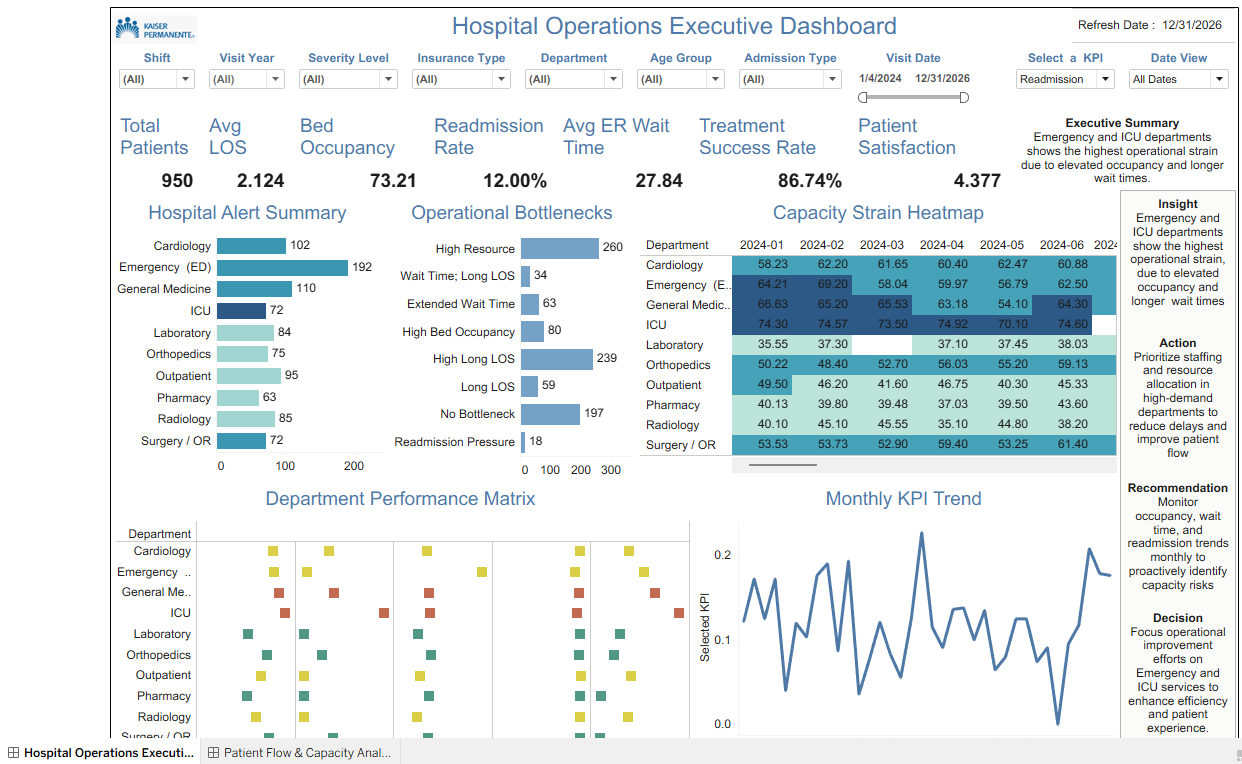

This screenshot's page, from the dashboard's own definition file:
{"tool":"tableau","page":{"name":"Hospital Operations Executive Dashboard","canvas":[1145,800],"ordinal":0},"visuals":[{"type":"title","box":[9,9,1127,35]},{"type":"worksheet","title":"Date Refresh ","mark":"Polygon","rows":["visit_date"],"box":[970,9,164,35]},{"type":"image","param":"Image/Kaiser Logo.png","box":[10,11,86,39]},{"type":"filter","title":"Capacity Strain Heatmap","param":"[federated.16tmy5q0wsebc01do4ov60bm0m2q].[none:shift:nk]","box":[10,48,89.8,60]},{"type":"filter","title":"Hospital Alert Summary ","param":"[federated.16tmy5q0wsebc01do4ov60bm0m2q].[yr:visit_date:ok]","box":[99.8,48,89.8,60]},{"type":"filter","title":"Capacity Strain Heatmap","param":"[federated.16tmy5q0wsebc01do4ov60bm0m2q].[none:severity_level:nk]","box":[189.5,48,113,60]},{"type":"filter","title":"Capacity Strain Heatmap","param":"[federated.16tmy5q0wsebc01do4ov60bm0m2q].[none:insurance_type:nk]","box":[302.5,48,113,60]},{"type":"filter","title":"Capacity Strain Heatmap","param":"[federated.16tmy5q0wsebc01do4ov60bm0m2q].[none:department:nk]","box":[415.5,48,112,60]},{"type":"filter","title":"Capacity Strain Heatmap","param":"[federated.16tmy5q0wsebc01do4ov60bm0m2q].[none:age_group:nk]","box":[527.5,48,102,60]},{"type":"filter","title":"Capacity Strain Heatmap","param":"[federated.16tmy5q0wsebc01do4ov60bm0m2q].[none:admission_type:nk]","box":[629.5,48,117,60]},{"type":"filter","title":"Capacity Strain Heatmap","param":"[federated.16tmy5q0wsebc01do4ov60bm0m2q].[none:visit_date:qk]","box":[748,48,127,60]},{"type":"parameter","param":"[Parameters].[Parameter 1196007160365057]","box":[907,48,113.5,60]},{"type":"parameter","param":"[Parameters].[Parameter 1196007862591496]","box":[1020.5,48,113.5,60]},{"type":"worksheet","title":"Total Patients","mark":"Automatic","box":[10,108,89.4,89]},{"type":"worksheet","title":"Avg LOS","mark":"Automatic","box":[99.4,108,91,89]},{"type":"worksheet","title":"Bed Occupancy","mark":"Automatic","box":[190.4,108,133.6,89]},{"type":"worksheet","title":"Readmission Rate ","mark":"Automatic","box":[324,108,129.4,89]},{"type":"worksheet","title":"Avg ER Wait Time","mark":"Automatic","box":[453.4,108,136,89]},{"type":"worksheet","title":"Treatment Success Rate","mark":"Automatic","box":[589.4,108,158.9,89]},{"type":"worksheet","title":"Patient Satisfaction","mark":"Automatic","box":[748.3,108,158.9,89]},{"type":"text","box":[907.2,108,226.8,89]},{"type":"text","box":[1019,192,114,125]},{"type":"worksheet","title":"Hospital Alert Summary ","mark":"Automatic","rows":["department"],"cols":["patient_id"],"box":[10,195,276,287]},{"type":"worksheet","title":"Operational Bottlenecks","mark":"Automatic","cols":["bottleneck_reason"],"box":[286,195,248,287]},{"type":"worksheet","title":"Capacity Strain Heatmap","mark":"Automatic","rows":["department"],"cols":["month"],"box":[534,195,485,287]},{"type":"text","box":[1019,328,114,144]},{"type":"text","box":[1019,472,114,133]},{"type":"worksheet","title":"Department Performance Matrix ","mark":"Square","rows":["department"],"cols":["bed_occupancy_rate","Calculation_0879897280897025","Calculation_0879897281646596","patient_satisfaction_score","Calculation_0879897281449987"],"box":[10,481,582,308]},{"type":"worksheet","title":"Monthly KPI Trend ","mark":"Line","rows":["Calculation_1196007161036802"],"cols":["month"],"box":[592,481,425,308]},{"type":"text","box":[1019,605,114,140]}]}

Visuals, with their boxes on the page's 1145x800 design canvas (x1, y1, x2, y2). These are canvas units, not pixel positions in the 1242x764 screenshot, which may show the page scaled, cropped or inside an application window:
title: <box>9,9,1136,44</box>
"Date Refresh " worksheet (Polygon marks): <box>970,9,1134,44</box>
image: <box>10,11,96,50</box>
"Capacity Strain Heatmap" filter: <box>10,48,100,108</box>
"Hospital Alert Summary " filter: <box>100,48,190,108</box>
"Capacity Strain Heatmap" filter: <box>190,48,302,108</box>
"Capacity Strain Heatmap" filter: <box>302,48,416,108</box>
"Capacity Strain Heatmap" filter: <box>416,48,528,108</box>
"Capacity Strain Heatmap" filter: <box>528,48,630,108</box>
"Capacity Strain Heatmap" filter: <box>630,48,746,108</box>
"Capacity Strain Heatmap" filter: <box>748,48,875,108</box>
parameter: <box>907,48,1020,108</box>
parameter: <box>1020,48,1134,108</box>
"Total Patients" worksheet: <box>10,108,99,197</box>
"Avg LOS" worksheet: <box>99,108,190,197</box>
"Bed Occupancy" worksheet: <box>190,108,324,197</box>
"Readmission Rate " worksheet: <box>324,108,453,197</box>
"Avg ER Wait Time" worksheet: <box>453,108,589,197</box>
"Treatment Success Rate" worksheet: <box>589,108,748,197</box>
"Patient Satisfaction" worksheet: <box>748,108,907,197</box>
text: <box>907,108,1134,197</box>
text: <box>1019,192,1133,317</box>
"Hospital Alert Summary " worksheet: <box>10,195,286,482</box>
"Operational Bottlenecks" worksheet: <box>286,195,534,482</box>
"Capacity Strain Heatmap" worksheet: <box>534,195,1019,482</box>
text: <box>1019,328,1133,472</box>
text: <box>1019,472,1133,605</box>
"Department Performance Matrix " worksheet (Square marks): <box>10,481,592,789</box>
"Monthly KPI Trend " worksheet (Line marks): <box>592,481,1017,789</box>
text: <box>1019,605,1133,745</box>
